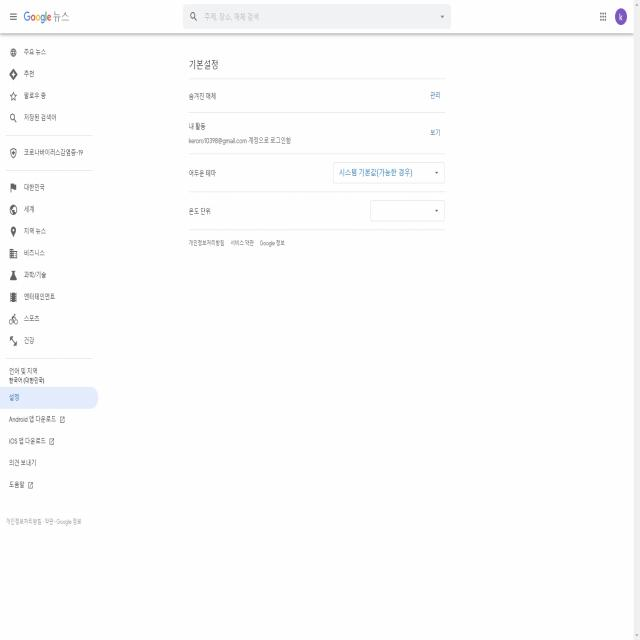menu-bar: (592, 2, 632, 30)
